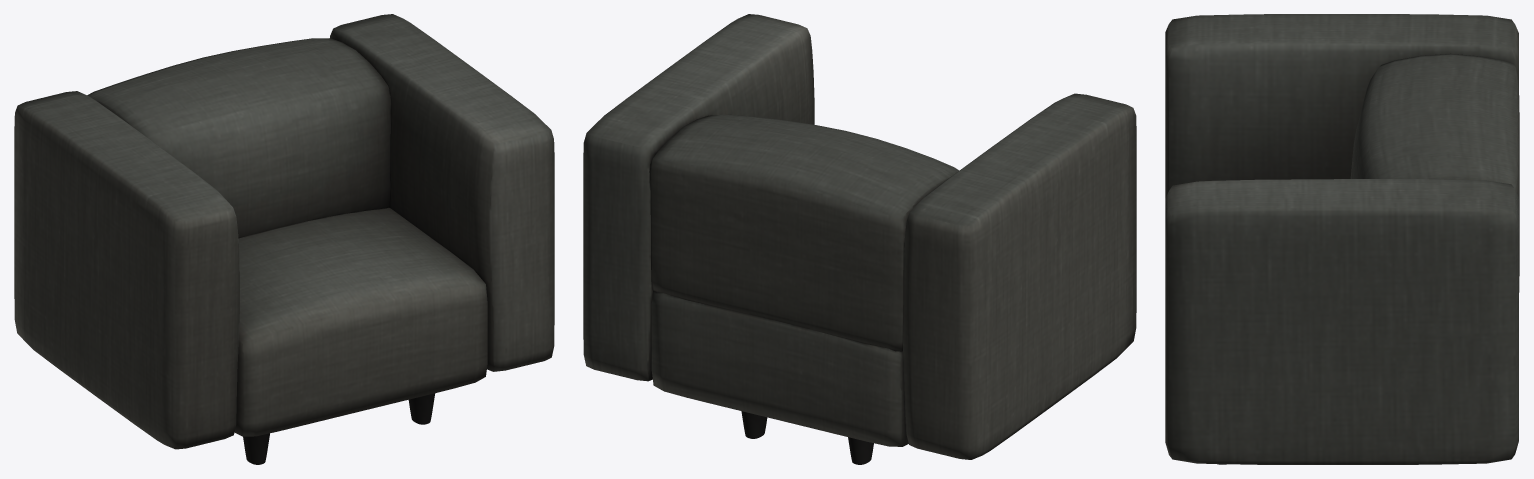
File: Braden_Accent_Chair_2.fbx
3 views of the same model, side by side, from view 1: azimuth 30°, elevation 25°; view 2: azimuth 150°, elevation 25°; view 3: azimuth 270°, elevation 25° (orthographic). The views are drawn at different scales.
Visible parts, largest first — view 1: Braden_Accent_Chair2; view 2: Braden_Accent_Chair2; view 3: Braden_Accent_Chair2.
Boxes of the visible parts, box(x1,y1,x2,y2) form: Braden_Accent_Chair2: box(14, 14, 554, 464); Braden_Accent_Chair2: box(583, 14, 1136, 464); Braden_Accent_Chair2: box(1165, 14, 1519, 464).
Bounding box in the file's own units: 1.31 × 0.9617 × 0.9795.
